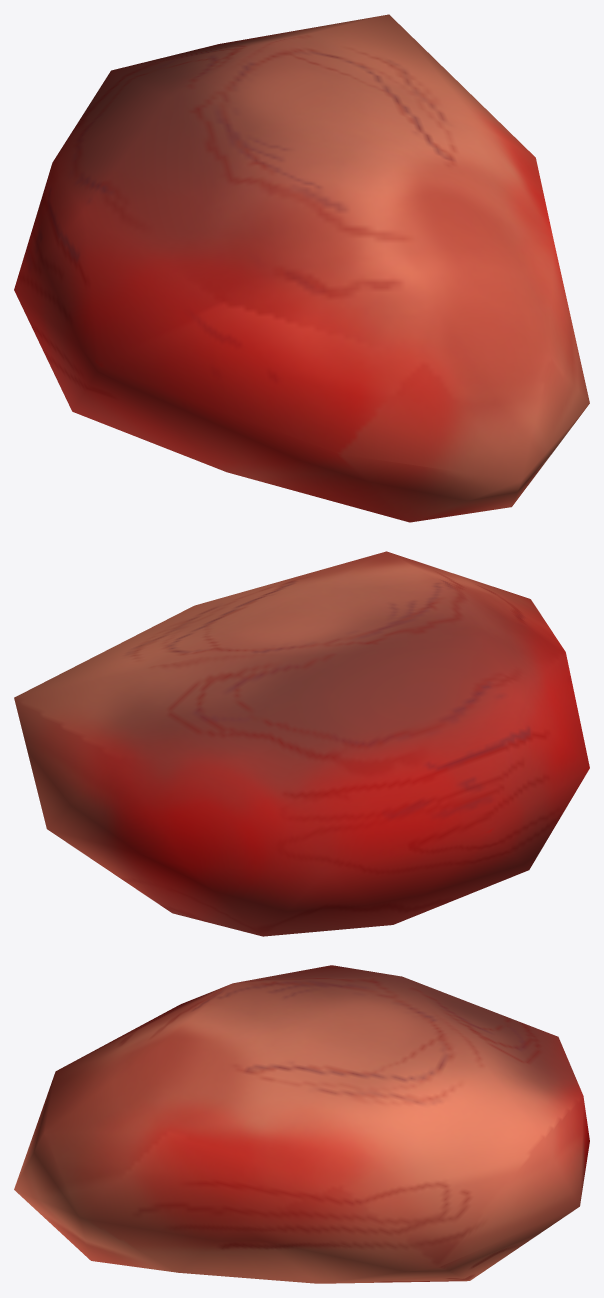
Rendered from Meat.fbx.
3 views of the same model, one above another, from view 1: azimuth 30°, elevation 25°; view 2: azimuth 150°, elevation 25°; view 3: azimuth 270°, elevation 25° (orthographic). The views are drawn at different scales.
Visible parts, largest first — view 1: Meat; view 2: Meat; view 3: Meat.
Boxes of the visible parts, bbox=[...] form: Meat: bbox=[14, 14, 589, 522]; Meat: bbox=[14, 551, 589, 936]; Meat: bbox=[14, 965, 589, 1283].
Size of the model in its own units: 26.54 by 15 by 33.08.
